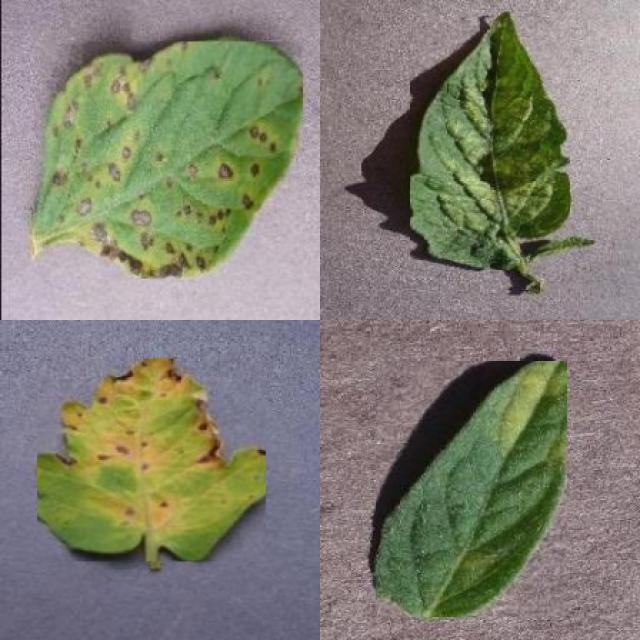Leaf Mold: (376, 361, 568, 618)
Septoria: (34, 42, 303, 278), (37, 358, 266, 562)
Spider Mites: (410, 12, 570, 272)
